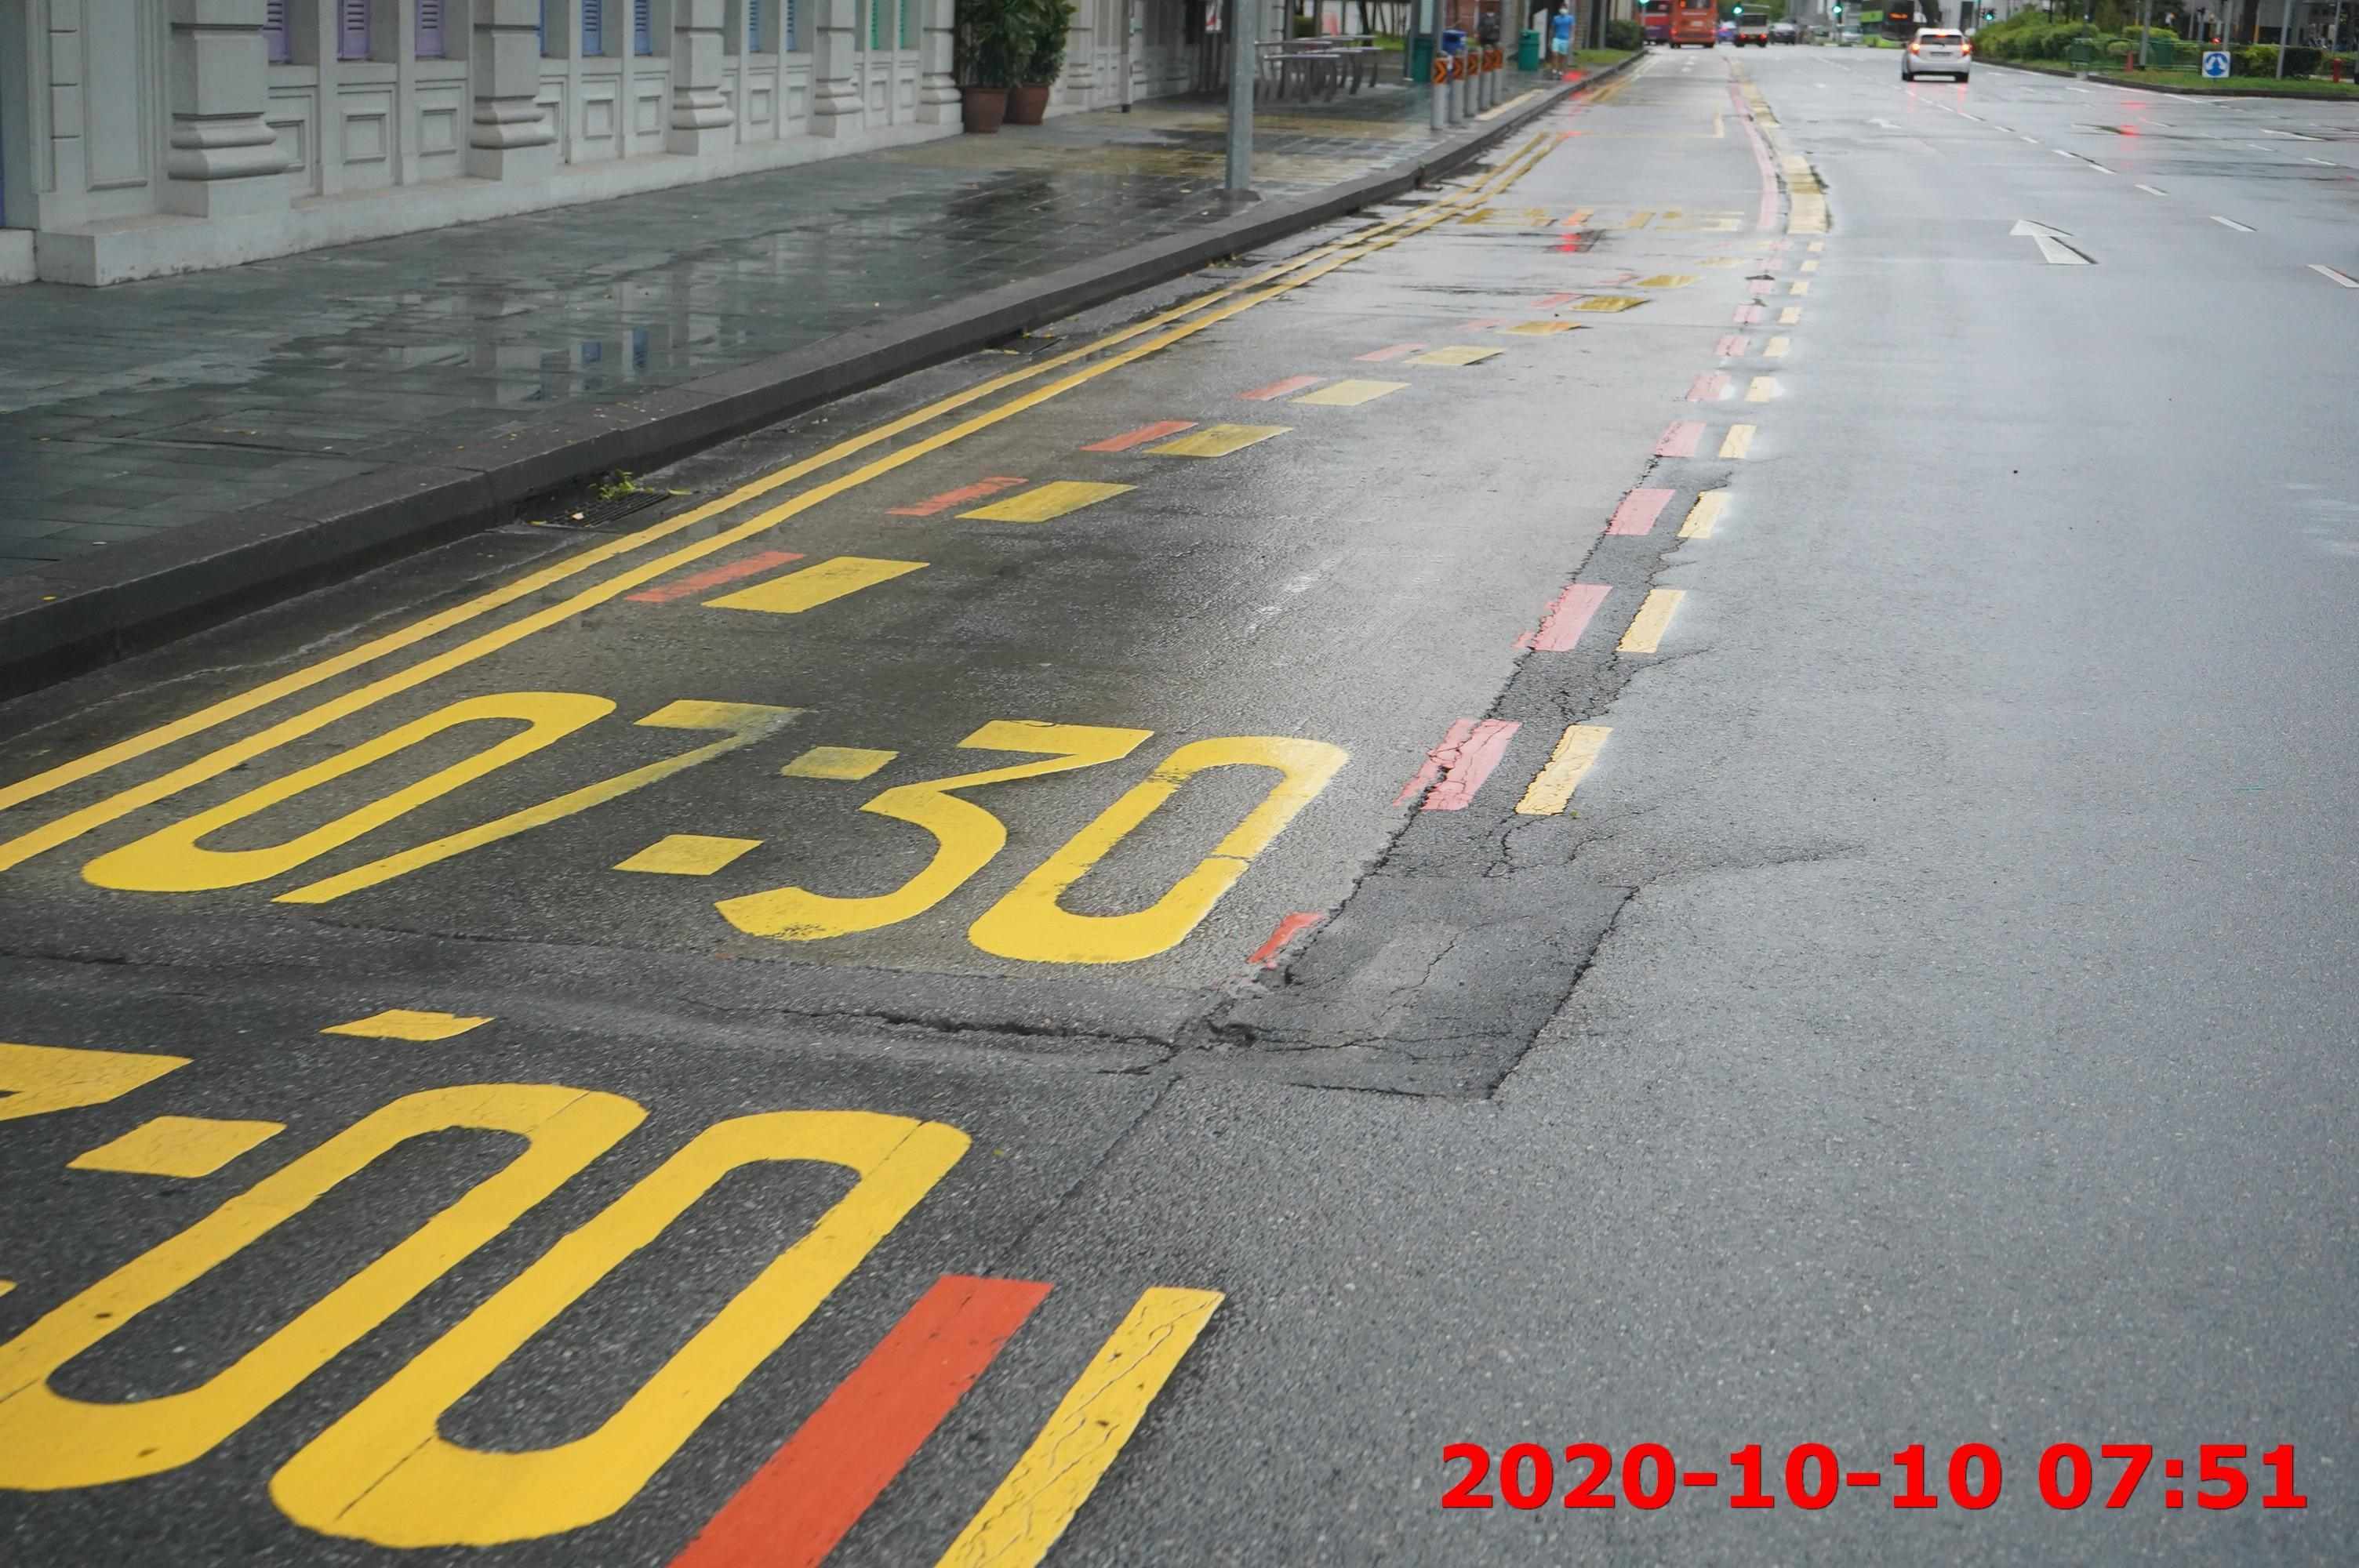multi crack: (1466, 800, 1545, 882)
transverse crack: (744, 992, 1400, 1080)
